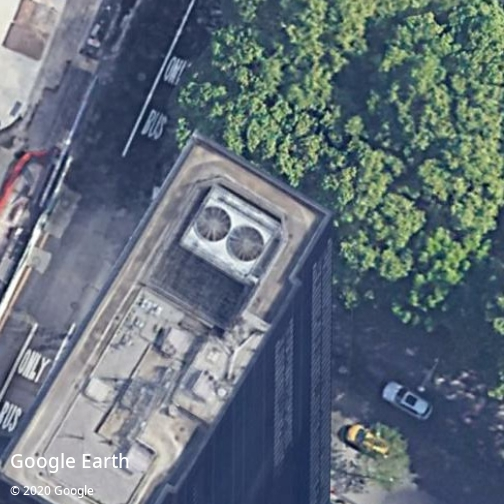Vent: (195, 206, 231, 242), (231, 226, 264, 262)
